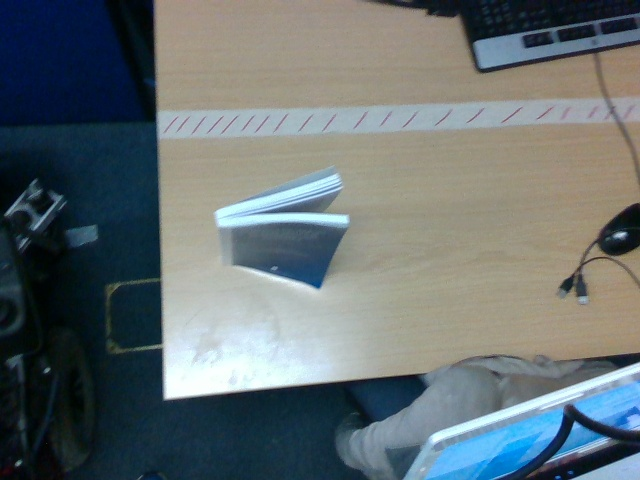book: (214, 166, 350, 289)
